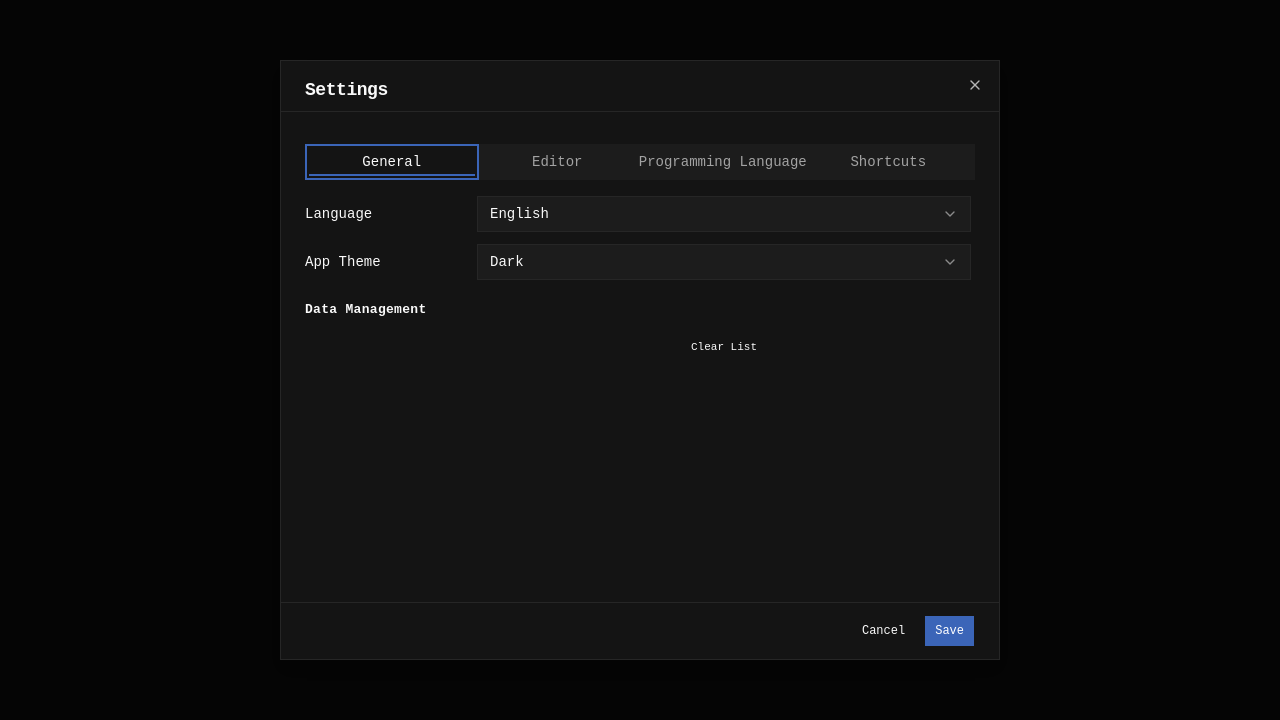
Scenario: SettingsPanel 快捷键 tab 渲染 › 切换到英文 locale 后快捷键文案本地化
Click the tab "Shortcuts".
click(888, 162)  # box [806,148,971,176]
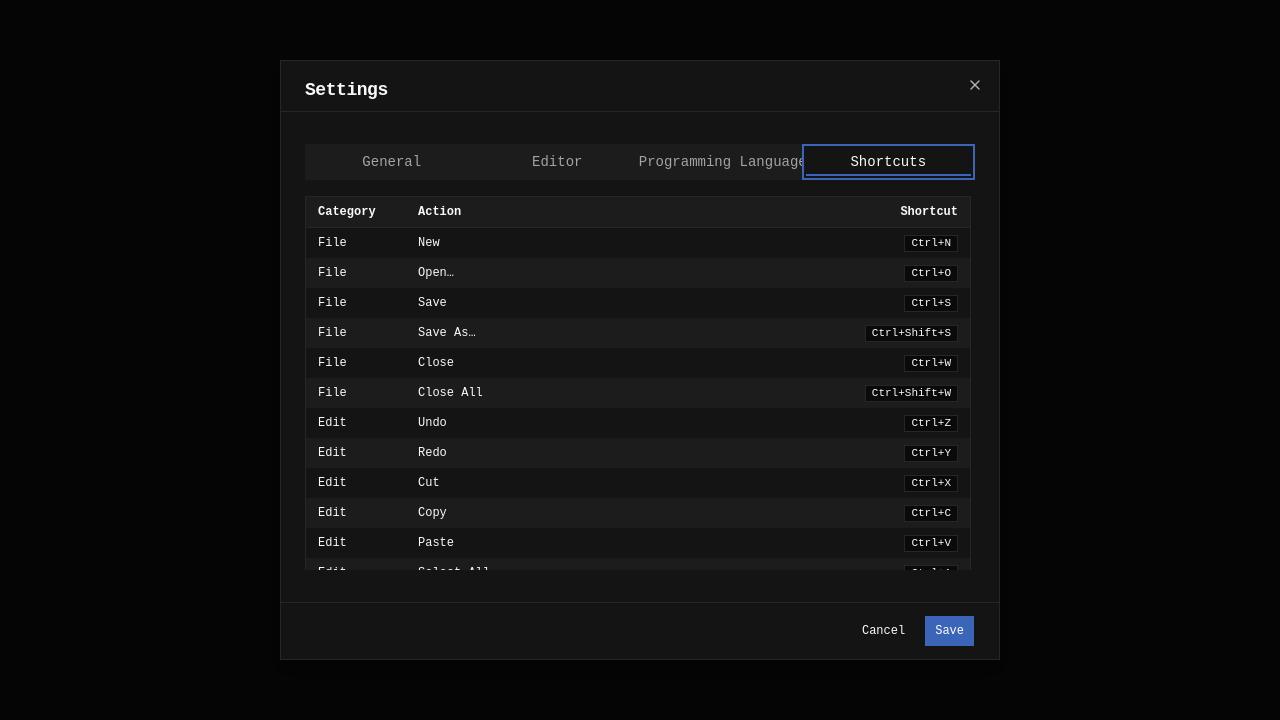
Check: the text "Category" is shown, box [318,205,376,219]
Check: the text "Action" is shown, box [418,205,461,219]
Check: the text "Shortcut" is shown, box [900,205,958,219]
